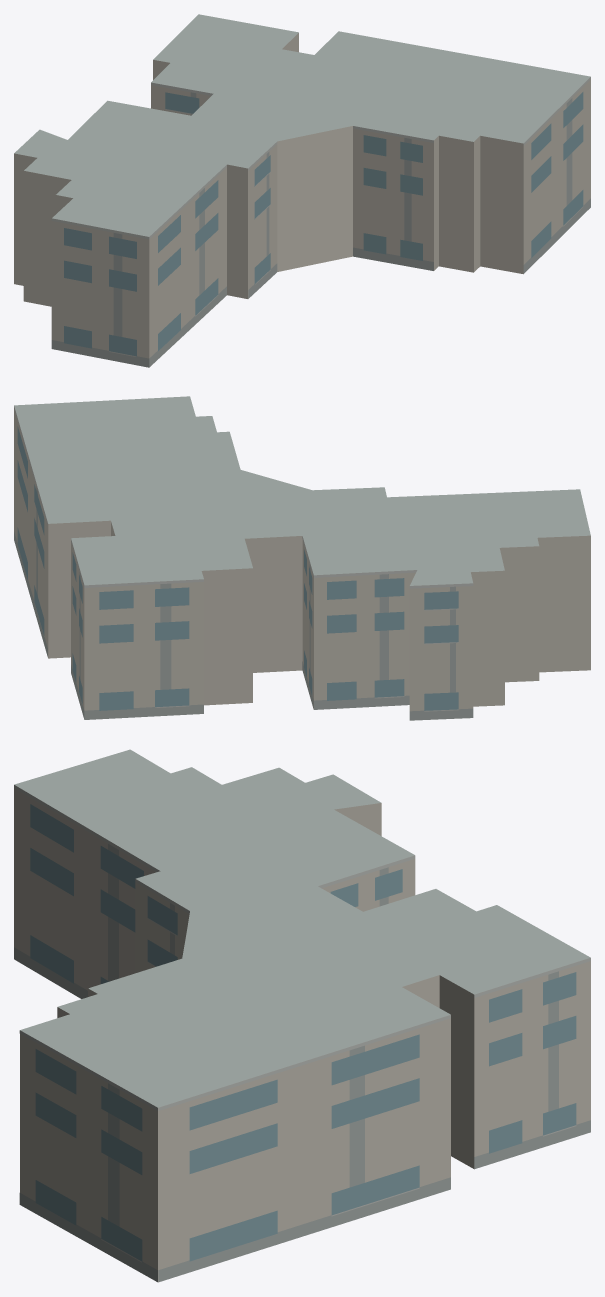
File: residential-4239a1bf-9212-4fee-9cc4-9cadd2c4342b.glb
3 views of the same model, one above another, from view 1: azimuth 30°, elevation 25°; view 2: azimuth 150°, elevation 25°; view 3: azimuth 270°, elevation 25° (orthographic). The views are drawn at different scales.
Visible parts, largest first — view 1: residential-4239a1bf-9212-4fee-9cc4-9cadd2c4342b.tmp; view 2: residential-4239a1bf-9212-4fee-9cc4-9cadd2c4342b.tmp; view 3: residential-4239a1bf-9212-4fee-9cc4-9cadd2c4342b.tmp.
Part boxes in pixels (box(x1,y1,x2,y2)): residential-4239a1bf-9212-4fee-9cc4-9cadd2c4342b.tmp: box(14, 14, 590, 367); residential-4239a1bf-9212-4fee-9cc4-9cadd2c4342b.tmp: box(14, 396, 590, 720); residential-4239a1bf-9212-4fee-9cc4-9cadd2c4342b.tmp: box(14, 749, 590, 1282).
Size of the model in its own units: 53.68 by 12.2 by 36.52.
